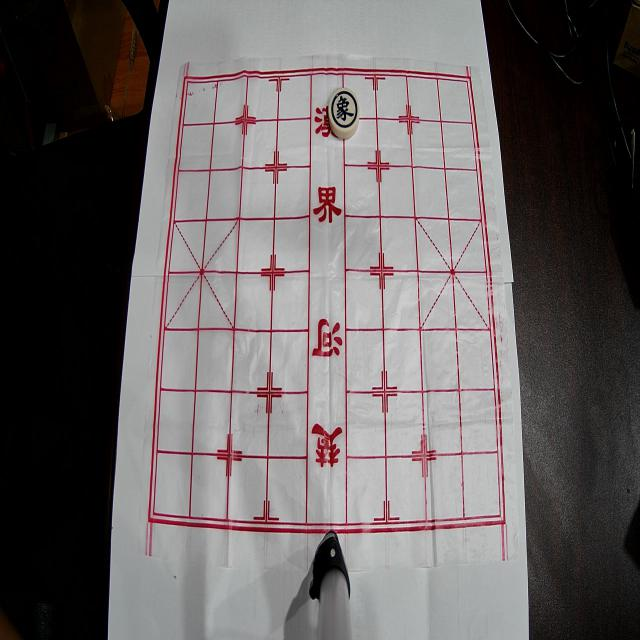black-elephant: (328, 88, 359, 139)
